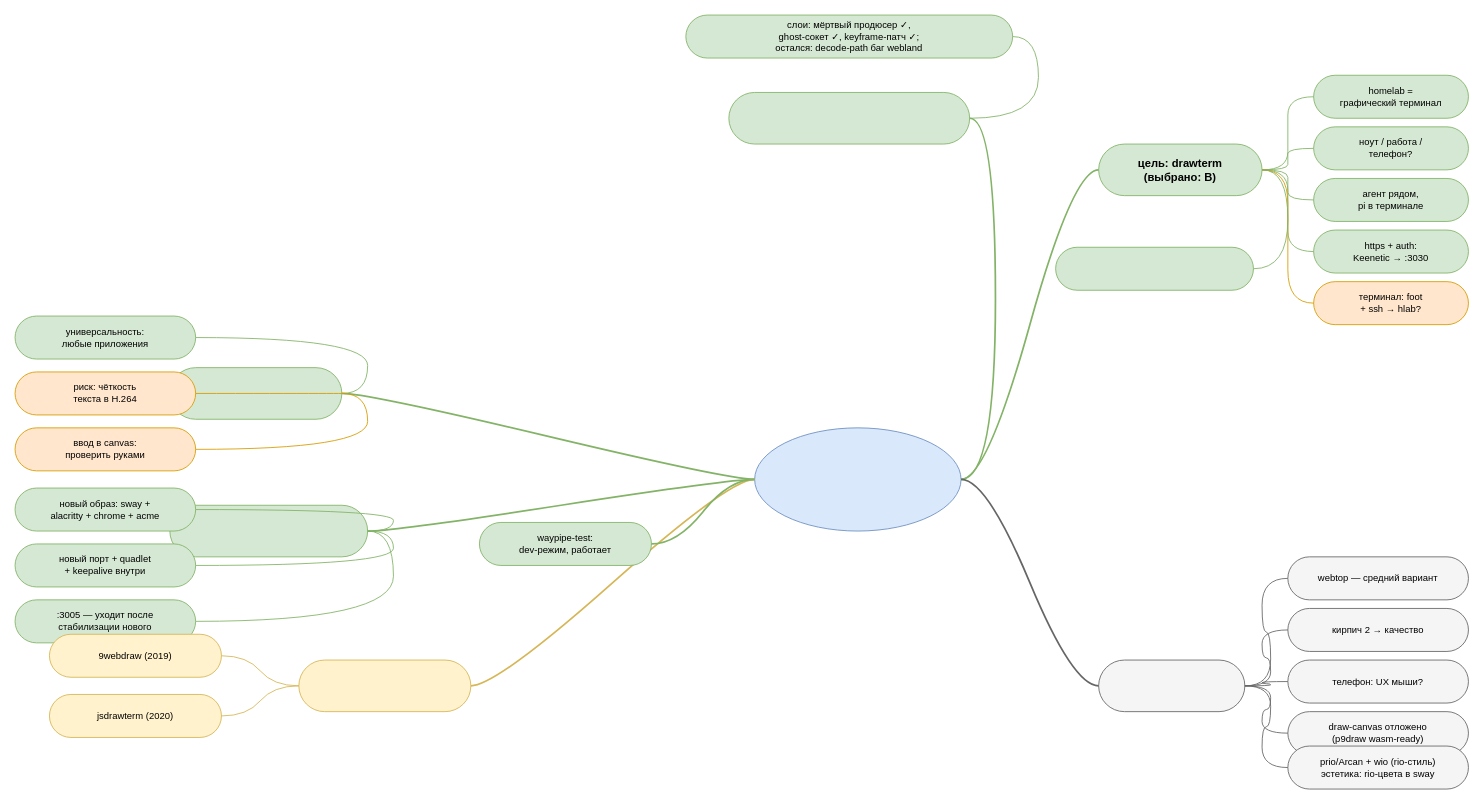
Some shapes in this 1484 by 804 pixel diagram are drawn without their labels. The box of each missing label's shape, as (x1, y1, x2, y2) in pixels:
p9draw что дальше?: (754, 427, 961, 531)
готово = acme + терм + браузер + вьюверы + shell: (1055, 246, 1253, 290)
носитель: стриминг стек :3005 (Selkies) webland — заморожен: (169, 367, 342, 419)
ОСНОВНОЙ трек: лёгкий стол :3005-стек: (169, 504, 368, 557)
отложено: (1098, 659, 1245, 712)
приор-арт (drawterm в браузере): (298, 659, 471, 712)
чёрное окно = мёртвый продюсер → keepalive ✓: (728, 92, 970, 144)
